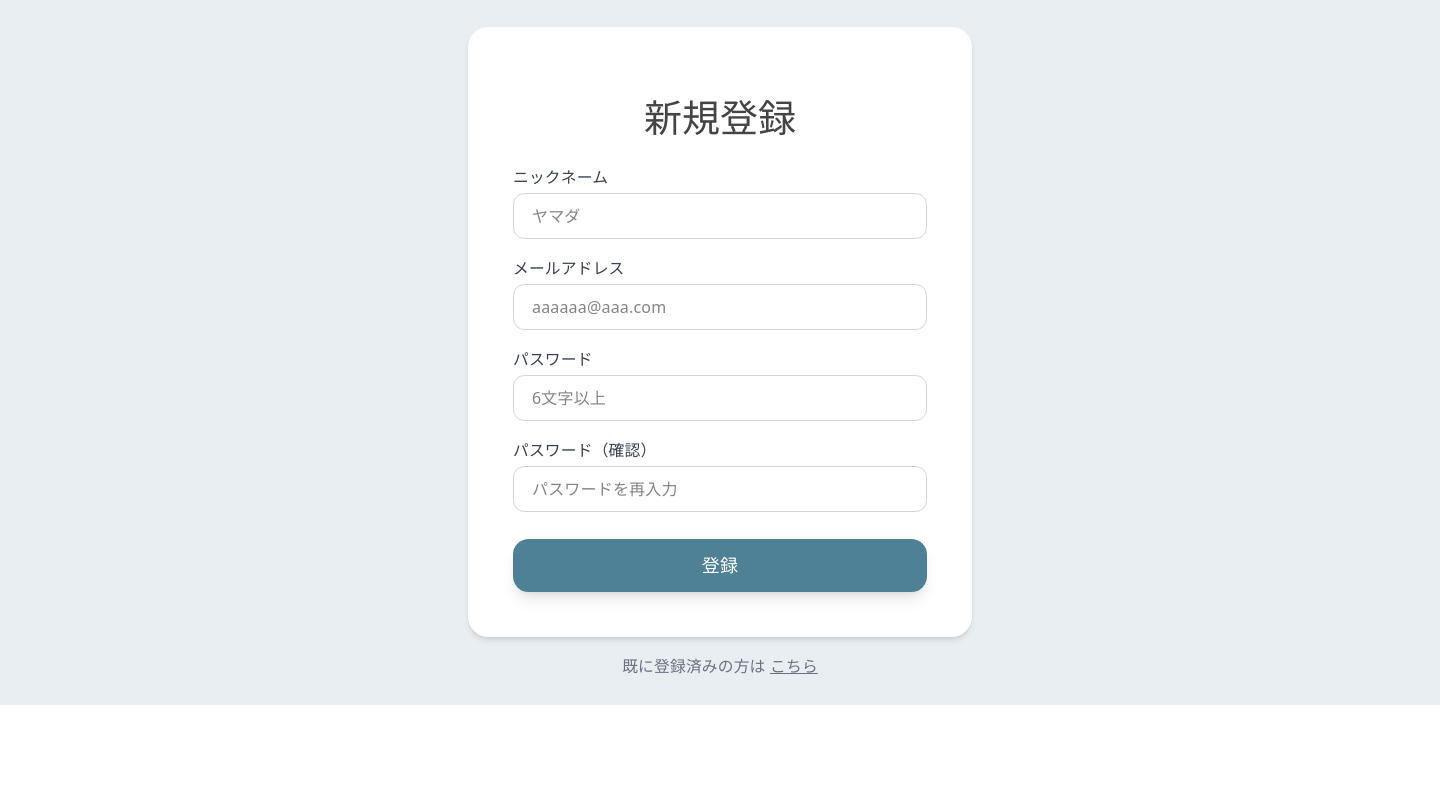
Test case: Register › 全項目が空の場合エラーメッセージが表示される
Click the button "登録". click: click(720, 566)
box: [513,539,927,592]
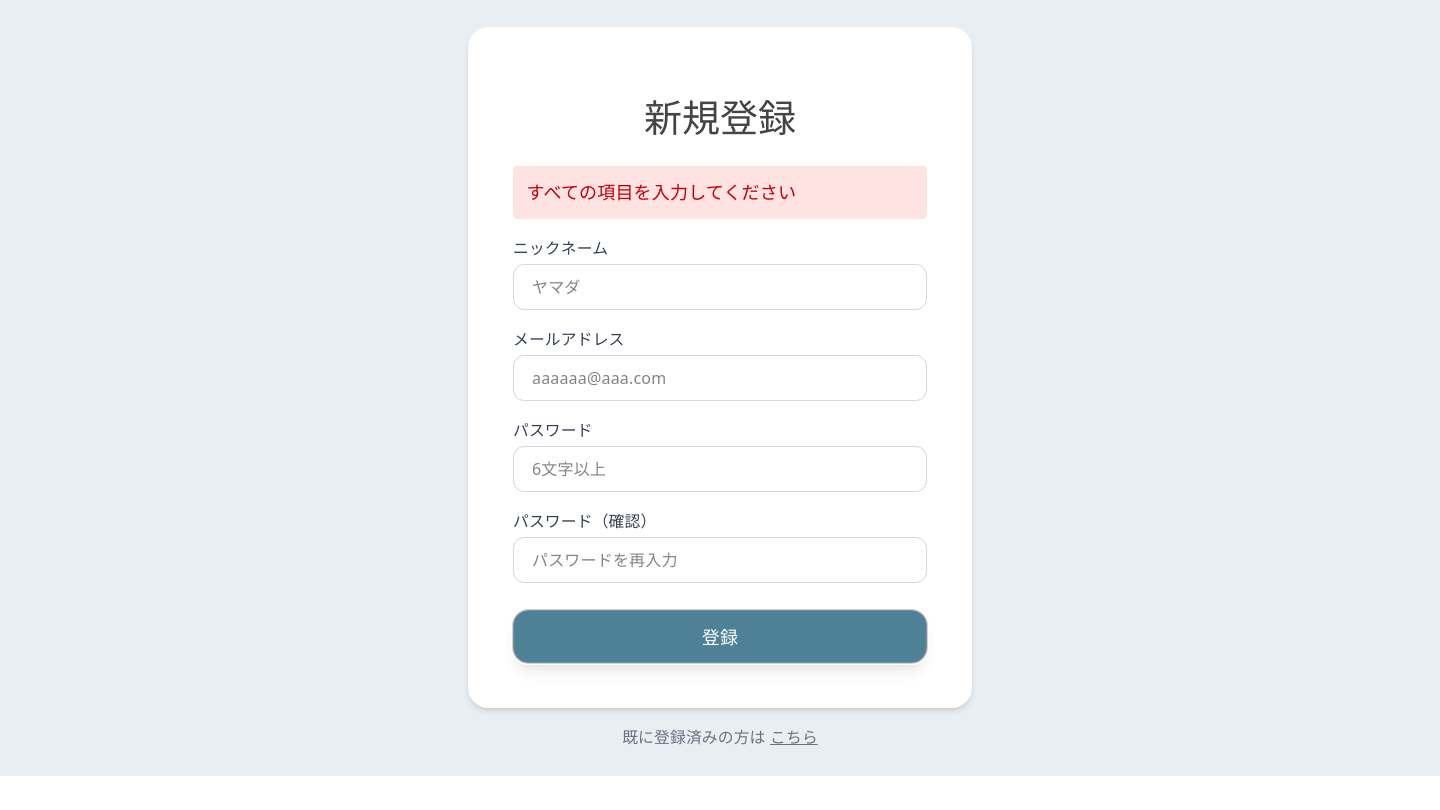
Check: the text "すべての項目を入力してください" is shown, box [513,166,927,219]
